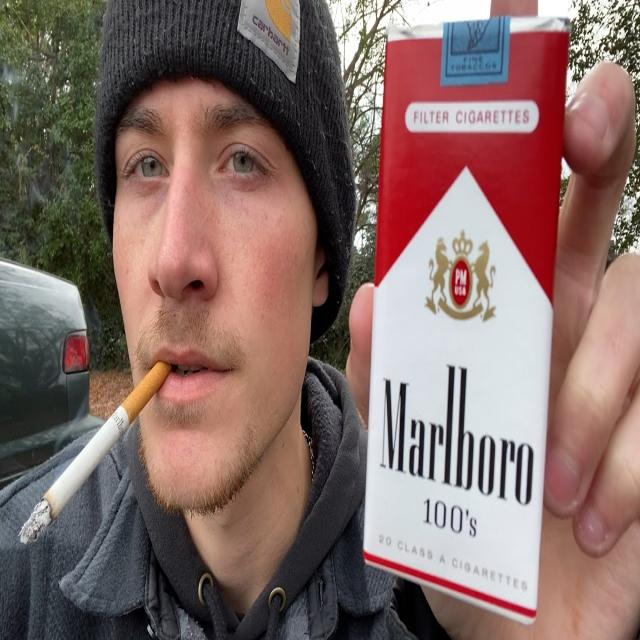marlboro: (367, 35, 567, 608)
